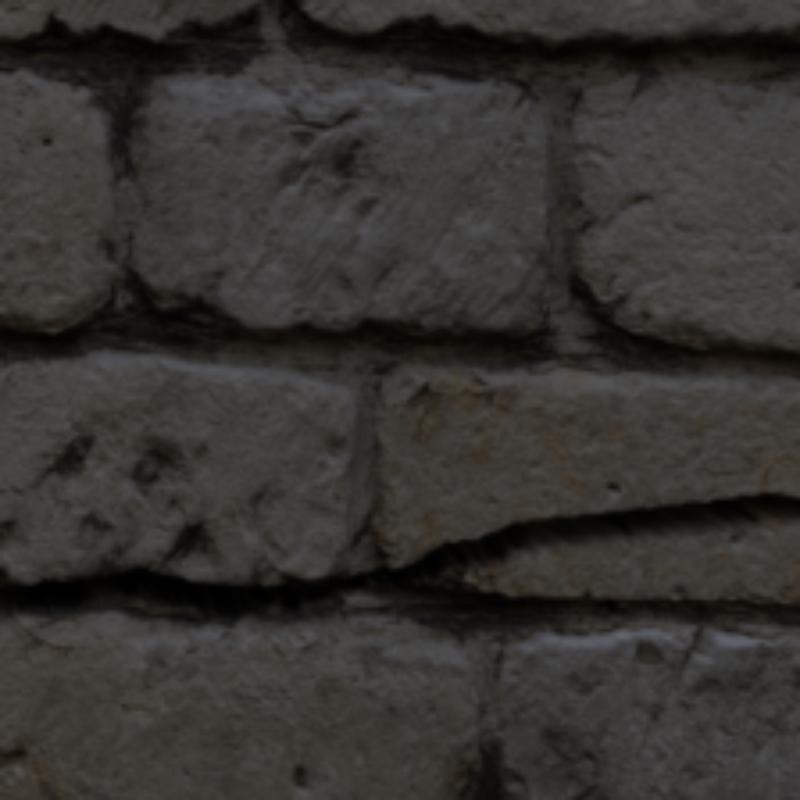pothole: (0, 493, 796, 621)
